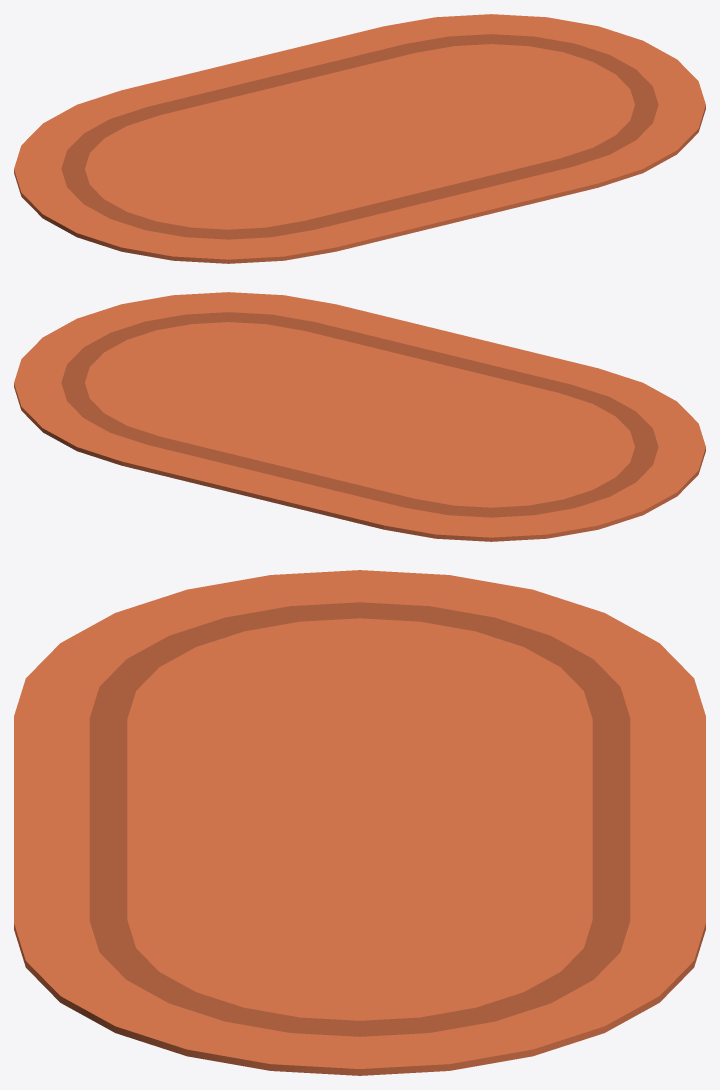
File: rugRounded.glb
3 views of the same model, one above another, from view 1: azimuth 30°, elevation 25°; view 2: azimuth 150°, elevation 25°; view 3: azimuth 270°, elevation 25° (orthographic). The views are drawn at different scales.
Size of the model in its own units: 15.7 by 0.1 by 9.2.
